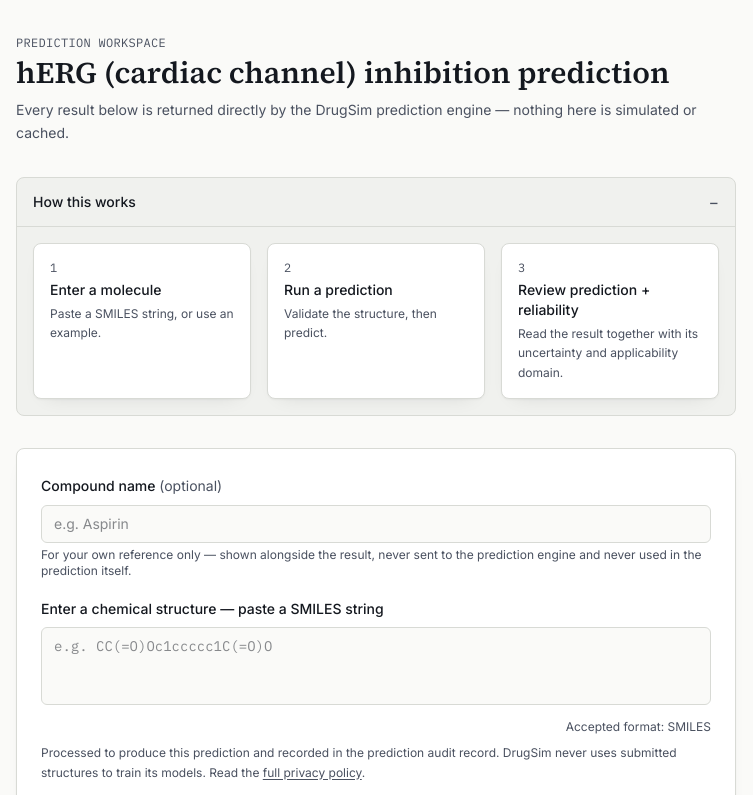
Test: PredictPage › renders prediction results, including uncertainty, applicability domain, and reliability, once predicted
Type "CC(=O)Oc1ccccc1C(=O)O" into the text box labelled "Enter a chemical structure — paste a SMILES string" at (376, 666), box top-left (41, 627), bottom-right (711, 705)
(page scrolled)
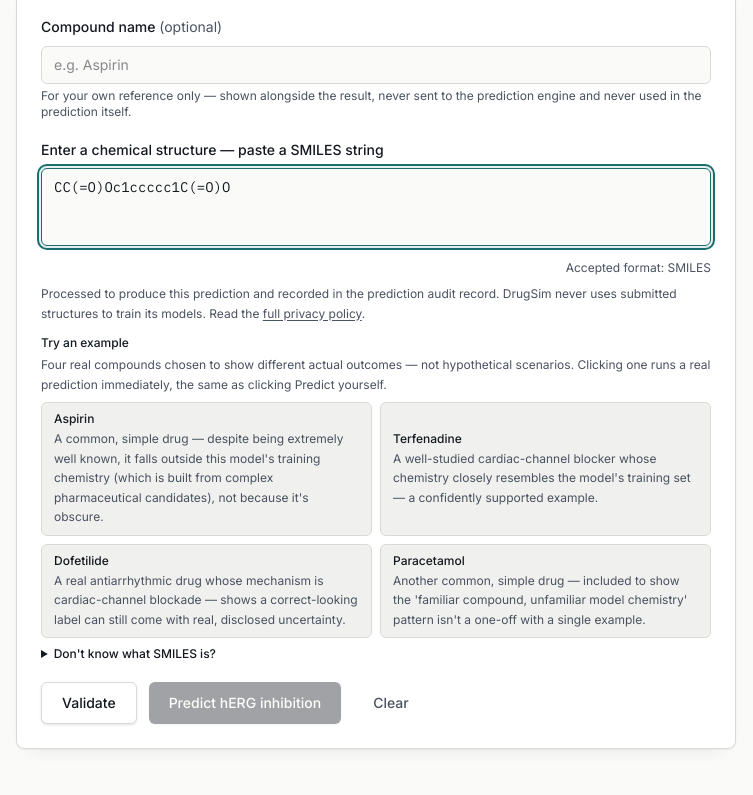
Click the button "Validate" at (89, 703), box top-left (41, 682), bottom-right (137, 724)
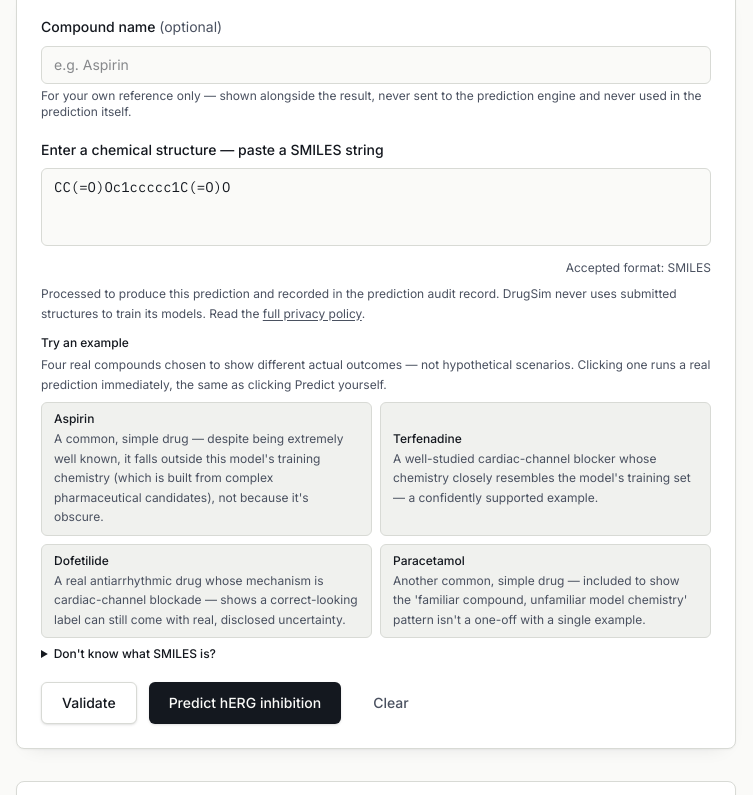
Click the button "Predict hERG inhibition" at (245, 703), box top-left (149, 682), bottom-right (341, 724)
(page scrolled)
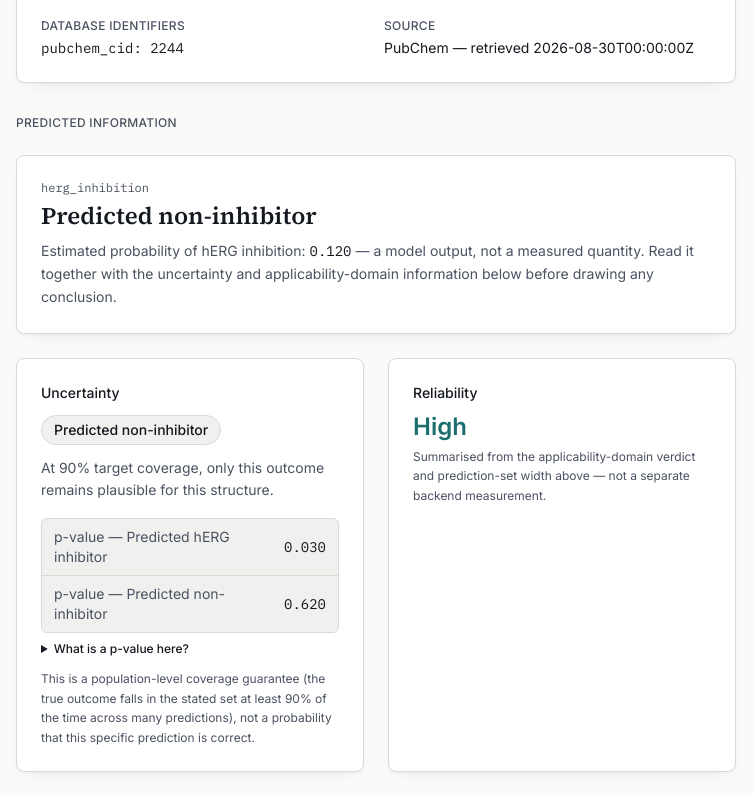
Check: the heading "Predicted non-inhibitor" is shown, box top-left (41, 199), bottom-right (317, 232)
Check: the heading "Uncertainty" is shown, box top-left (41, 384), bottom-right (120, 400)
Check: the heading "Reliability" is shown, box top-left (413, 384), bottom-right (478, 400)
